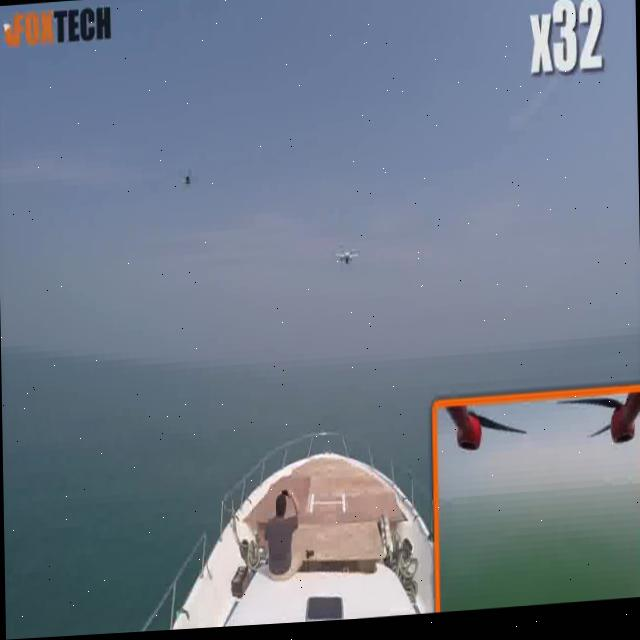drone: (328, 241, 356, 277), (173, 163, 193, 186)
